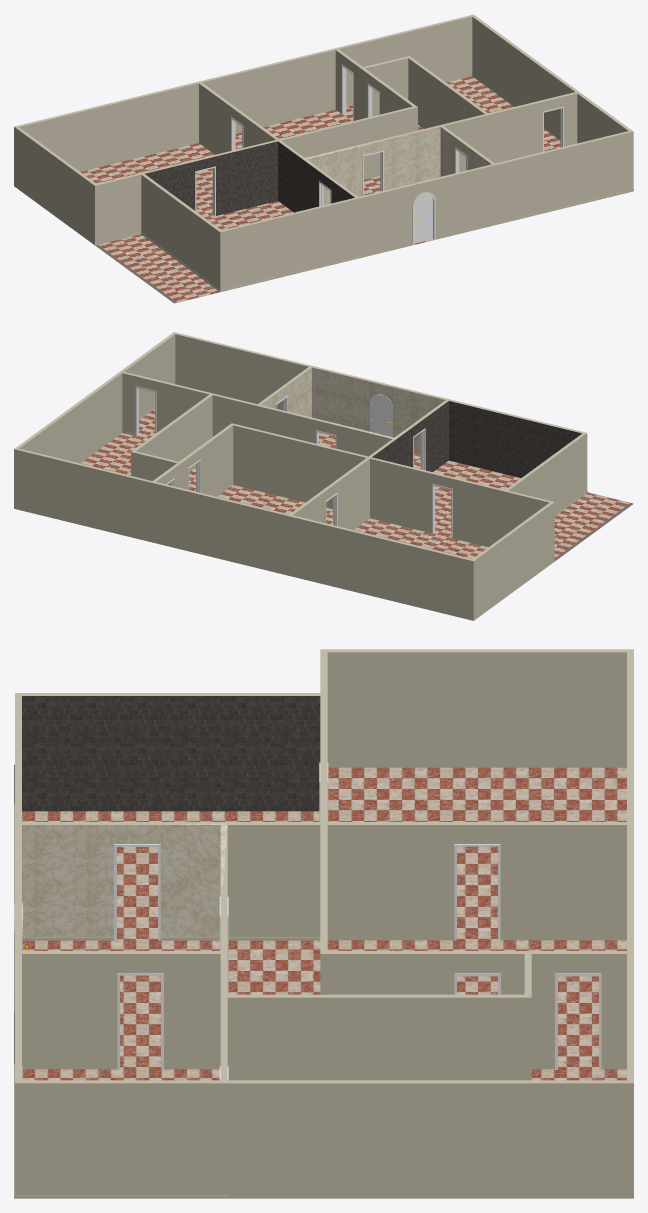
The model's file is house03.gltf.
3 views of the same model, one above another, from view 1: azimuth 30°, elevation 25°; view 2: azimuth 150°, elevation 25°; view 3: azimuth 270°, elevation 25° (orthographic). The views are drawn at different scales.
Visible parts, largest first — view 1: house03, ground; view 2: house03, ground; view 3: house03, ground.
Part boxes in pixels (box(x1,y1,x2,y2)): house03: box(14, 14, 633, 303); ground: box(80, 76, 560, 302); house03: box(14, 332, 633, 620); ground: box(80, 409, 629, 558); house03: box(14, 649, 633, 1198); ground: box(22, 767, 626, 1080).
Bounding box in the file's own units: 202 × 25 × 122.
Materials: 5 (3 with a texture image).
